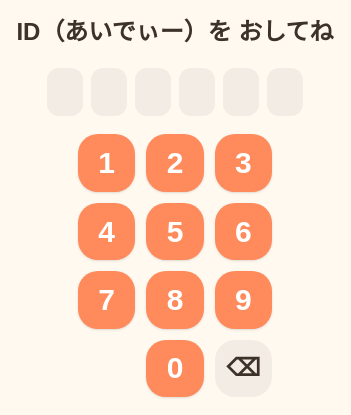
Test case: typing fewer than 6 digits keeps the user on the ID step
This screenshot has width=351, height=415.
Click the button "1" at {"x": 107, "y": 163}, box [78,134,135,192]
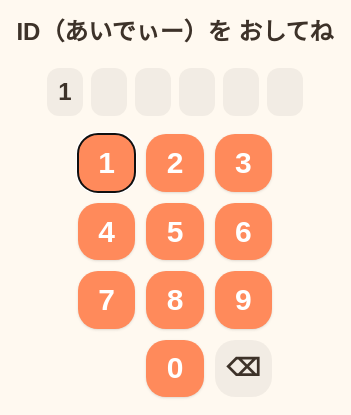
Click the button "2" at {"x": 175, "y": 163}, box [146,134,204,192]
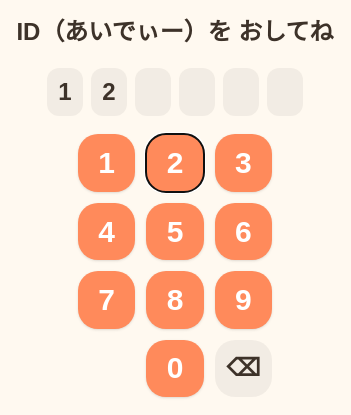
Click the button "3" at {"x": 243, "y": 163}, box [215,134,272,192]
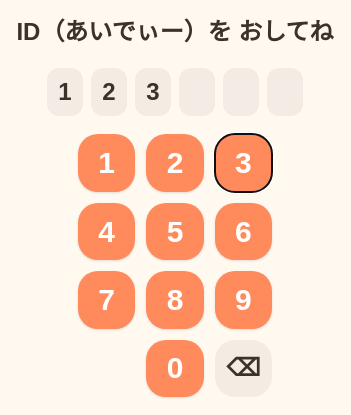
Expected: the text "1" is shown, [47,68,83,116]
Expected: the text "3" is shown, [135,68,171,116]
